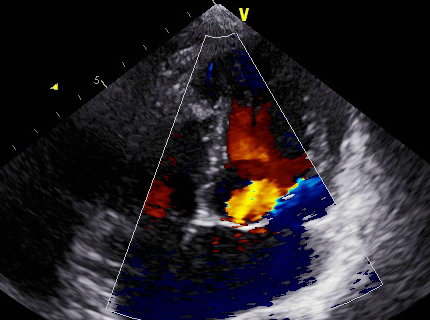MR: (233, 186, 336, 241)
